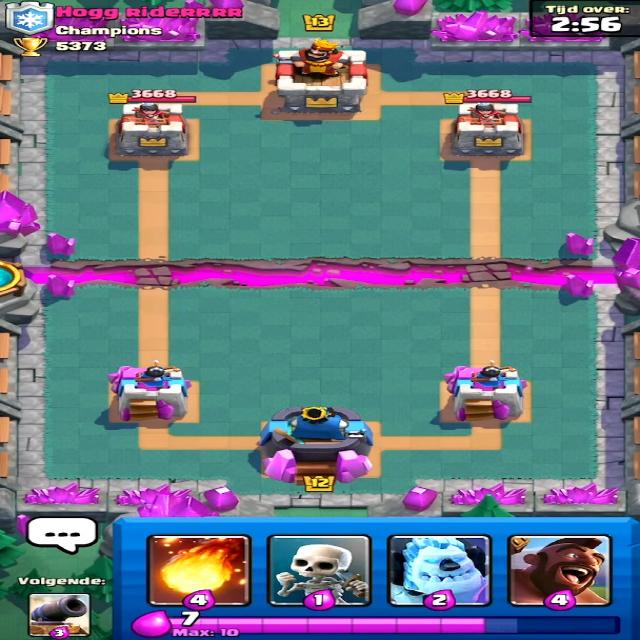Fireball_Card: (145, 534, 251, 610)
Hog_Rider_Card: (512, 537, 606, 605)
Ice_Golem_Card: (382, 536, 491, 604)
Skeleton_Card: (272, 532, 368, 604)
